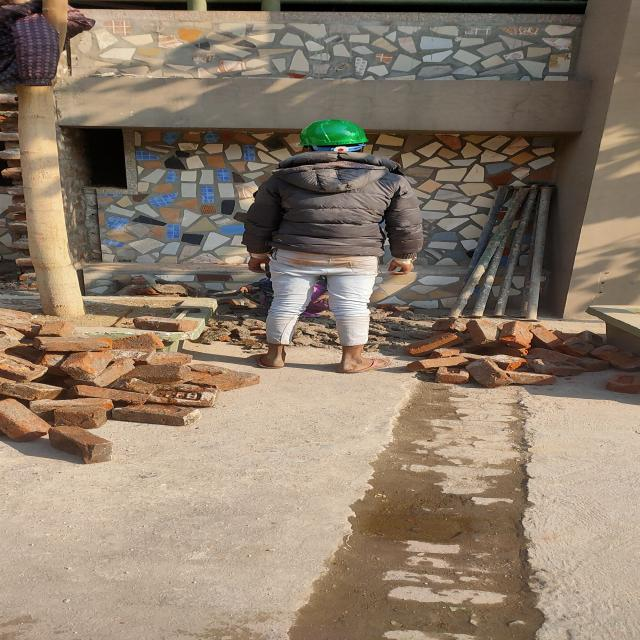no jacket: (244, 120, 425, 374)
